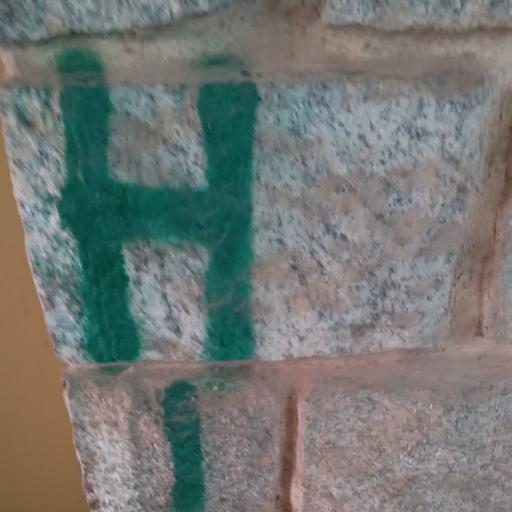stain: (31, 17, 284, 376), (140, 375, 255, 512)
